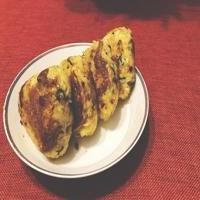biodegradable: (19, 26, 138, 161)
